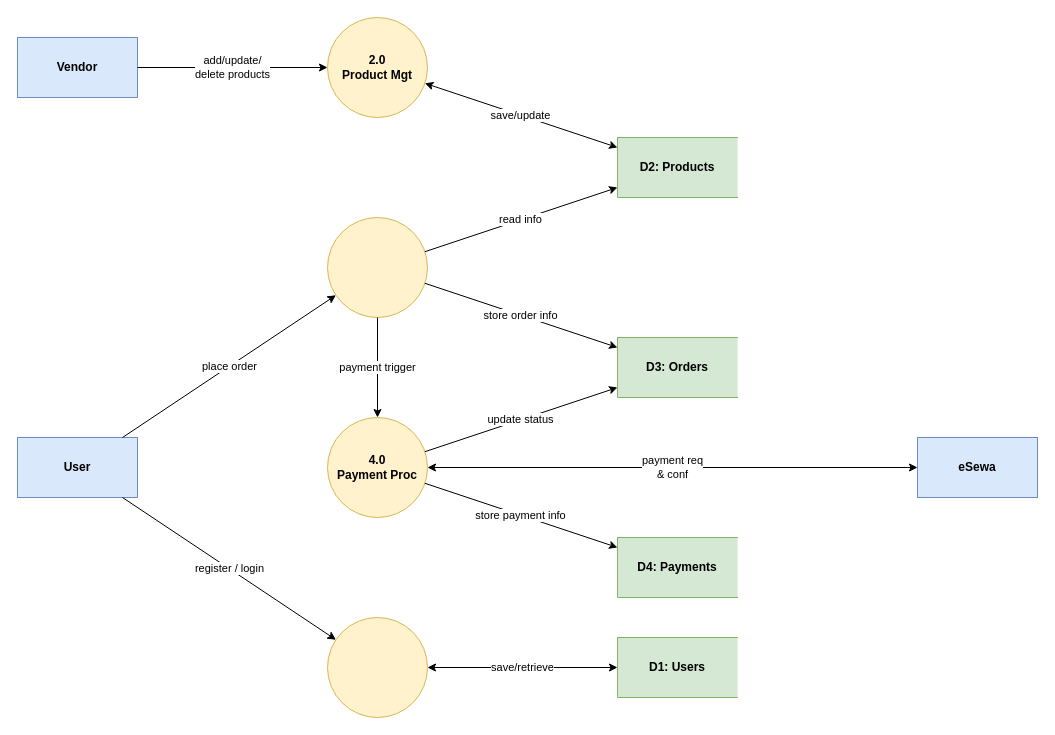
Image size: 1055x735. Some labels were removed from this diagram. Each missing label, with the box of its shape:
1.0 User Mgt: (326, 616, 428, 718)
3.0 Order Proc: (326, 216, 428, 318)
